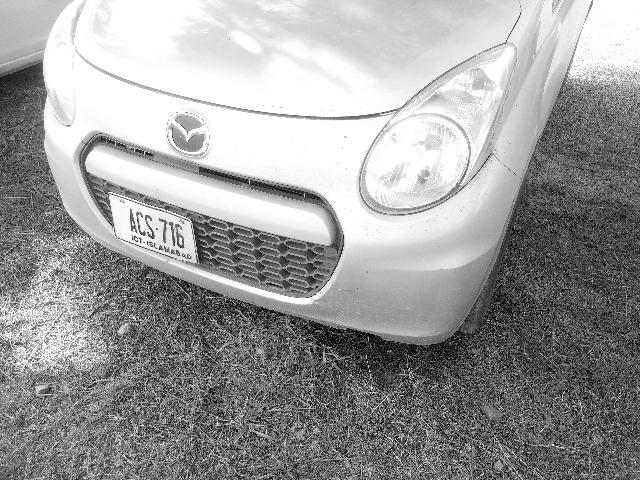Number: (126, 204, 187, 249)
